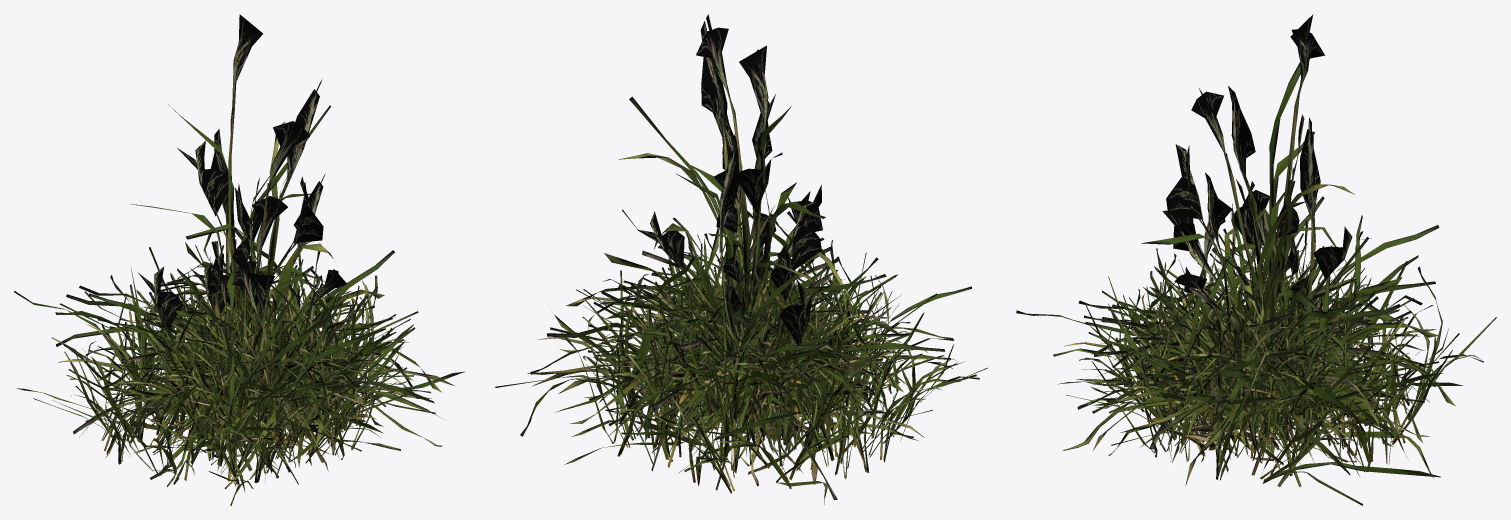
The model's file is grass_medium_01_LOD1.fbx.
3 renders of one model, left to right at view 1: azimuth 30°, elevation 25°; view 2: azimuth 150°, elevation 25°; view 3: azimuth 270°, elevation 25°, orthographic. The views are drawn at different scales.
Visible parts, largest first — view 1: grass_medium_01_large_a_LOD0.001, grass_medium_01_large_c_LOD0.001, grass_medium_01_large_b_LOD0.001, grass_medium_01_mid_a_LOD0.001, grass_medium_01_tall_b_LOD0.001, grass_medium_01_tall_a_LOD0.001, grass_medium_01_tall_c_LOD0.001, grass_medium_01_mid_c_LOD0.001, grass_medium_01_mid_b_LOD0.001, grass_medium_01_small_a_LOD0.001, grass_medium_01_small_b_LOD0.001; view 2: grass_medium_01_large_a_LOD0.001, grass_medium_01_large_b_LOD0.001, grass_medium_01_large_c_LOD0.001, grass_medium_01_tall_a_LOD0.001, grass_medium_01_mid_a_LOD0.001, grass_medium_01_tall_b_LOD0.001, grass_medium_01_tall_c_LOD0.001, grass_medium_01_mid_b_LOD0.001, grass_medium_01_mid_c_LOD0.001, grass_medium_01_small_a_LOD0.001; view 3: grass_medium_01_large_a_LOD0.001, grass_medium_01_large_b_LOD0.001, grass_medium_01_large_c_LOD0.001, grass_medium_01_mid_a_LOD0.001, grass_medium_01_tall_a_LOD0.001, grass_medium_01_tall_b_LOD0.001, grass_medium_01_tall_c_LOD0.001, grass_medium_01_mid_c_LOD0.001, grass_medium_01_mid_b_LOD0.001, grass_medium_01_small_a_LOD0.001, grass_medium_01_small_b_LOD0.001.
Part boxes in pixels (<box>): grass_medium_01_large_a_LOD0.001: <box>14,228,415,505</box>; grass_medium_01_large_c_LOD0.001: <box>89,257,464,478</box>; grass_medium_01_large_b_LOD0.001: <box>56,235,454,471</box>; grass_medium_01_mid_a_LOD0.001: <box>73,174,430,466</box>; grass_medium_01_tall_b_LOD0.001: <box>171,79,333,425</box>; grass_medium_01_tall_a_LOD0.001: <box>130,14,330,339</box>; grass_medium_01_tall_c_LOD0.001: <box>138,129,352,422</box>; grass_medium_01_mid_c_LOD0.001: <box>147,268,389,472</box>; grass_medium_01_mid_b_LOD0.001: <box>102,221,333,484</box>; grass_medium_01_small_a_LOD0.001: <box>137,273,343,491</box>; grass_medium_01_small_b_LOD0.001: <box>138,307,377,468</box>; grass_medium_01_large_a_LOD0.001: <box>495,209,987,504</box>; grass_medium_01_large_b_LOD0.001: <box>527,206,930,461</box>; grass_medium_01_large_c_LOD0.001: <box>530,211,952,472</box>; grass_medium_01_tall_a_LOD0.001: <box>627,14,825,386</box>; grass_medium_01_mid_a_LOD0.001: <box>586,114,867,499</box>; grass_medium_01_tall_b_LOD0.001: <box>618,21,857,347</box>; grass_medium_01_tall_c_LOD0.001: <box>666,134,836,439</box>; grass_medium_01_mid_b_LOD0.001: <box>610,197,891,486</box>; grass_medium_01_mid_c_LOD0.001: <box>589,213,887,435</box>; grass_medium_01_small_a_LOD0.001: <box>627,237,896,455</box>; grass_medium_01_large_a_LOD0.001: <box>1016,196,1496,505</box>; grass_medium_01_large_b_LOD0.001: <box>1058,214,1455,485</box>; grass_medium_01_large_c_LOD0.001: <box>1077,228,1443,474</box>; grass_medium_01_mid_a_LOD0.001: <box>1094,172,1417,449</box>; grass_medium_01_tall_a_LOD0.001: <box>1141,14,1371,430</box>; grass_medium_01_tall_b_LOD0.001: <box>1159,86,1354,442</box>; grass_medium_01_tall_c_LOD0.001: <box>1162,117,1332,431</box>; grass_medium_01_mid_c_LOD0.001: <box>1107,204,1404,464</box>; grass_medium_01_mid_b_LOD0.001: <box>1109,217,1401,480</box>; grass_medium_01_small_a_LOD0.001: <box>1144,256,1371,447</box>; grass_medium_01_small_b_LOD0.001: <box>1119,276,1392,459</box>.
Size of the model in its own units: 0.317 by 0.3229 by 0.3271.
1 material, 1 textured.
